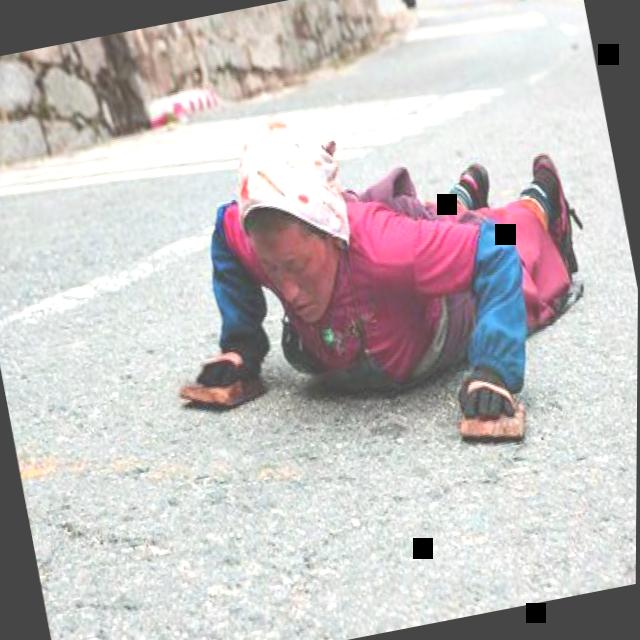Fall-Detected: (143, 52, 617, 509)
